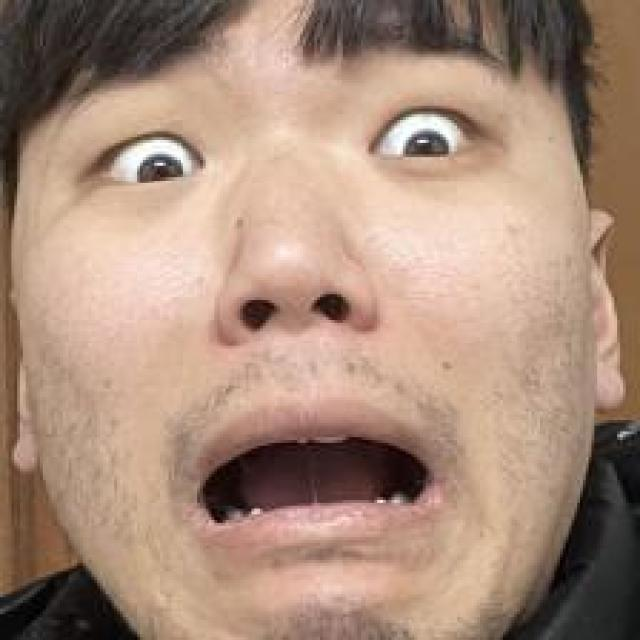Fear: (60, 71, 570, 600)
